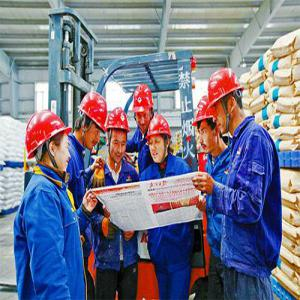red: (28, 110, 71, 181), (209, 68, 242, 137), (78, 89, 108, 146), (105, 109, 131, 162), (198, 96, 222, 153), (133, 82, 155, 134), (149, 118, 173, 163)
